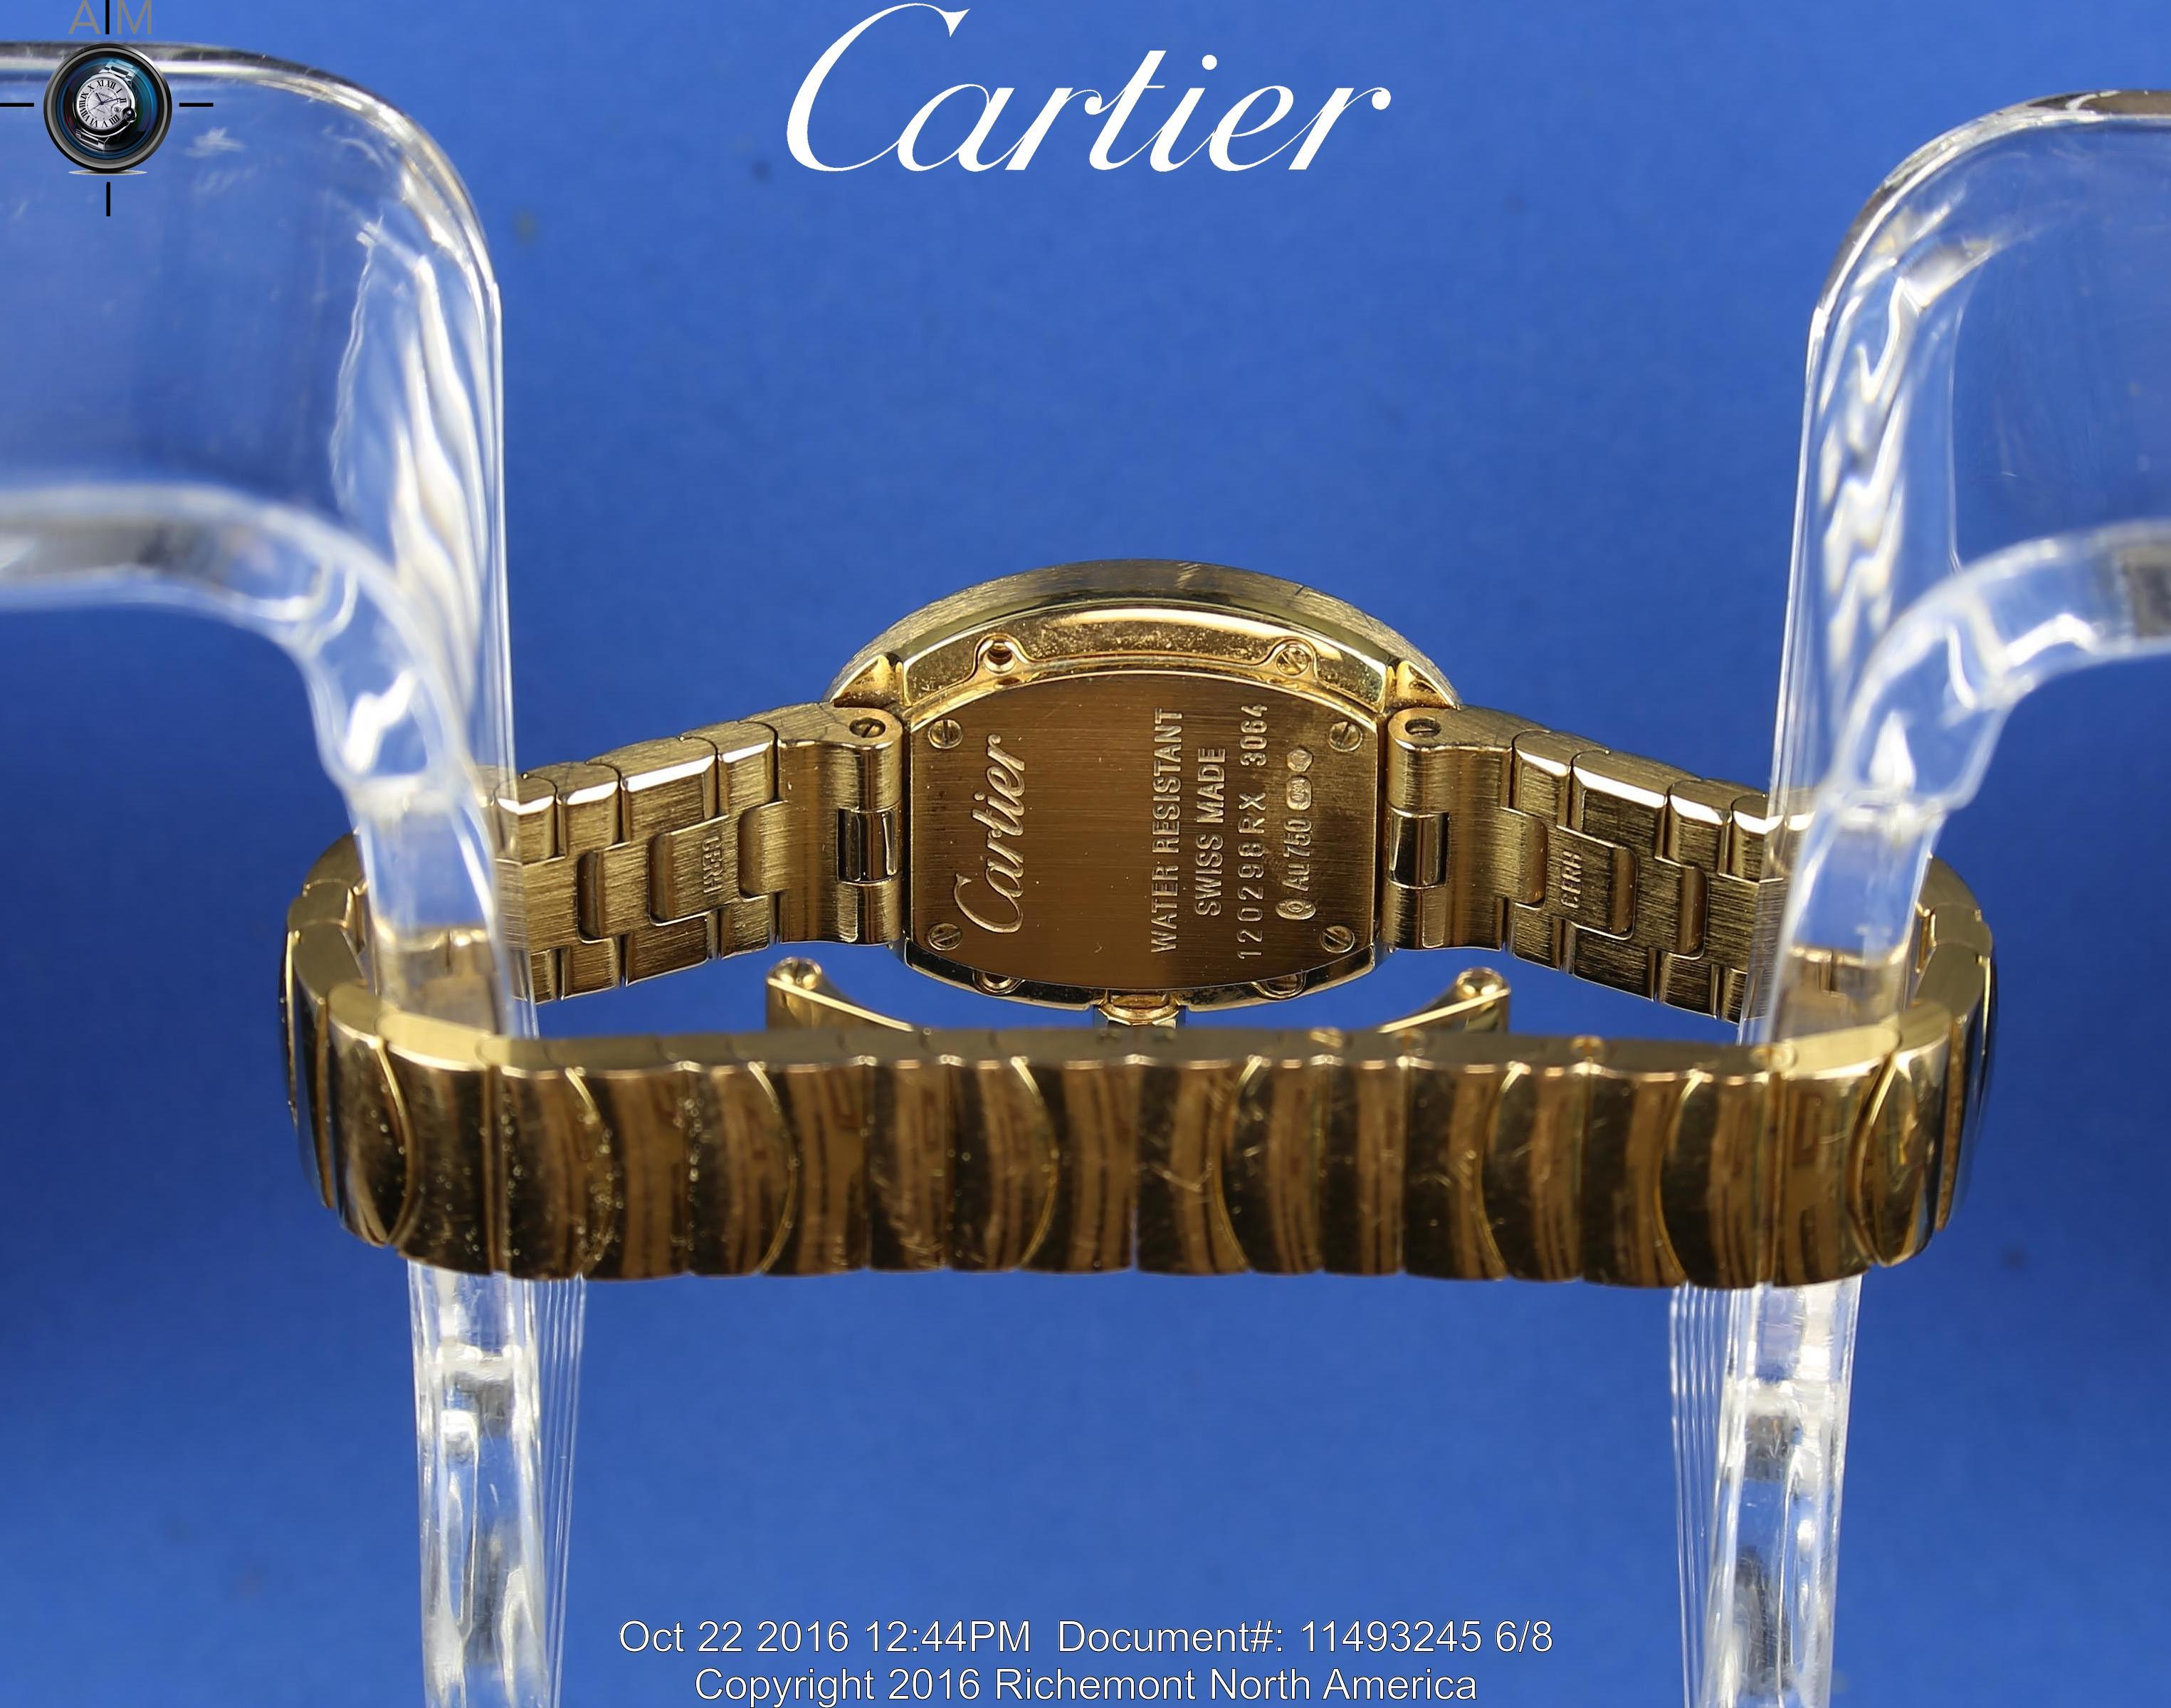Watch Back Case: (830, 534, 1471, 1029)
